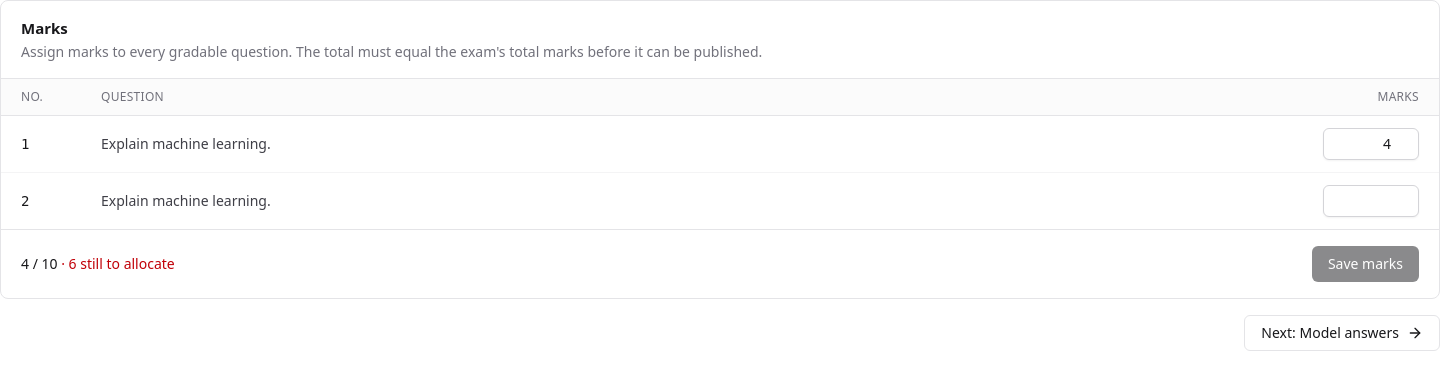
Test: marks step › tracks the running total against the exam total and saves
Later steps or results of the test are not shown.
Check: the text "6 still to allocate" is shown, box [61,254,175,272]
Type "7" into the number field named "Marks for question 2" at [1371, 200], box [1323,184,1419,216]
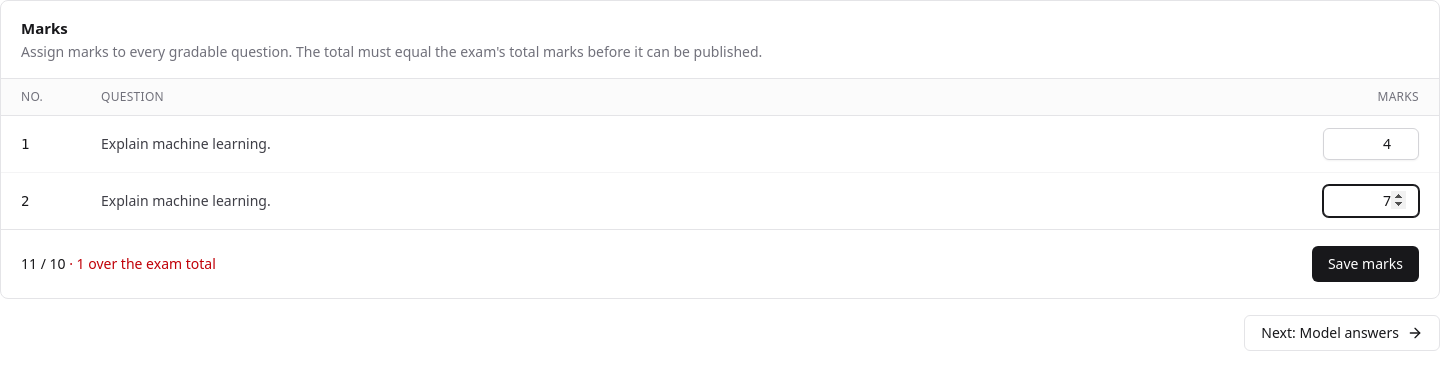
Check: the text "1 over the exam total" is shown, box [69,254,216,272]
Replace the text in the number field named "Marks for question 2" with "6" at [1371, 200], box [1323,184,1419,216]
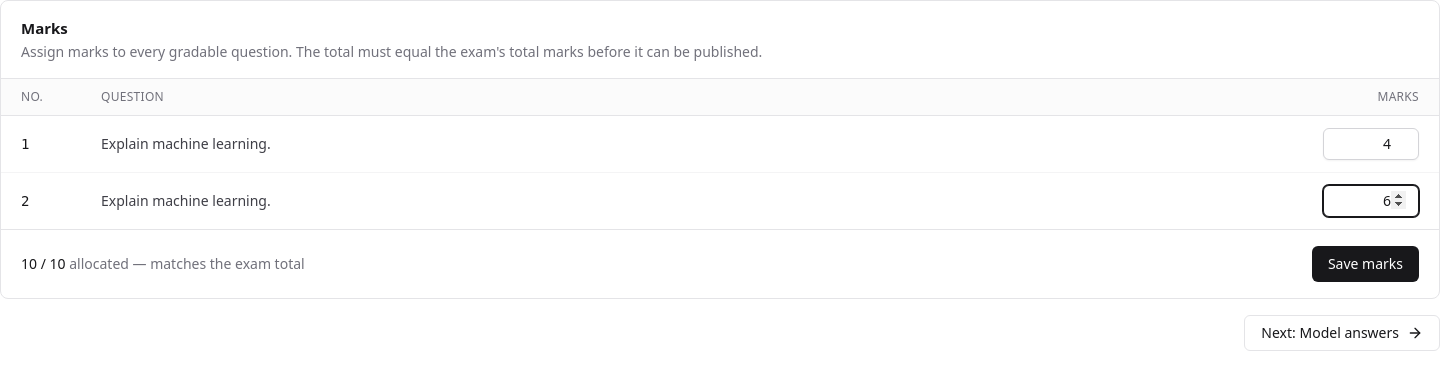
Check: the text "allocated — matches the exam total" is shown, box [69,254,305,272]
